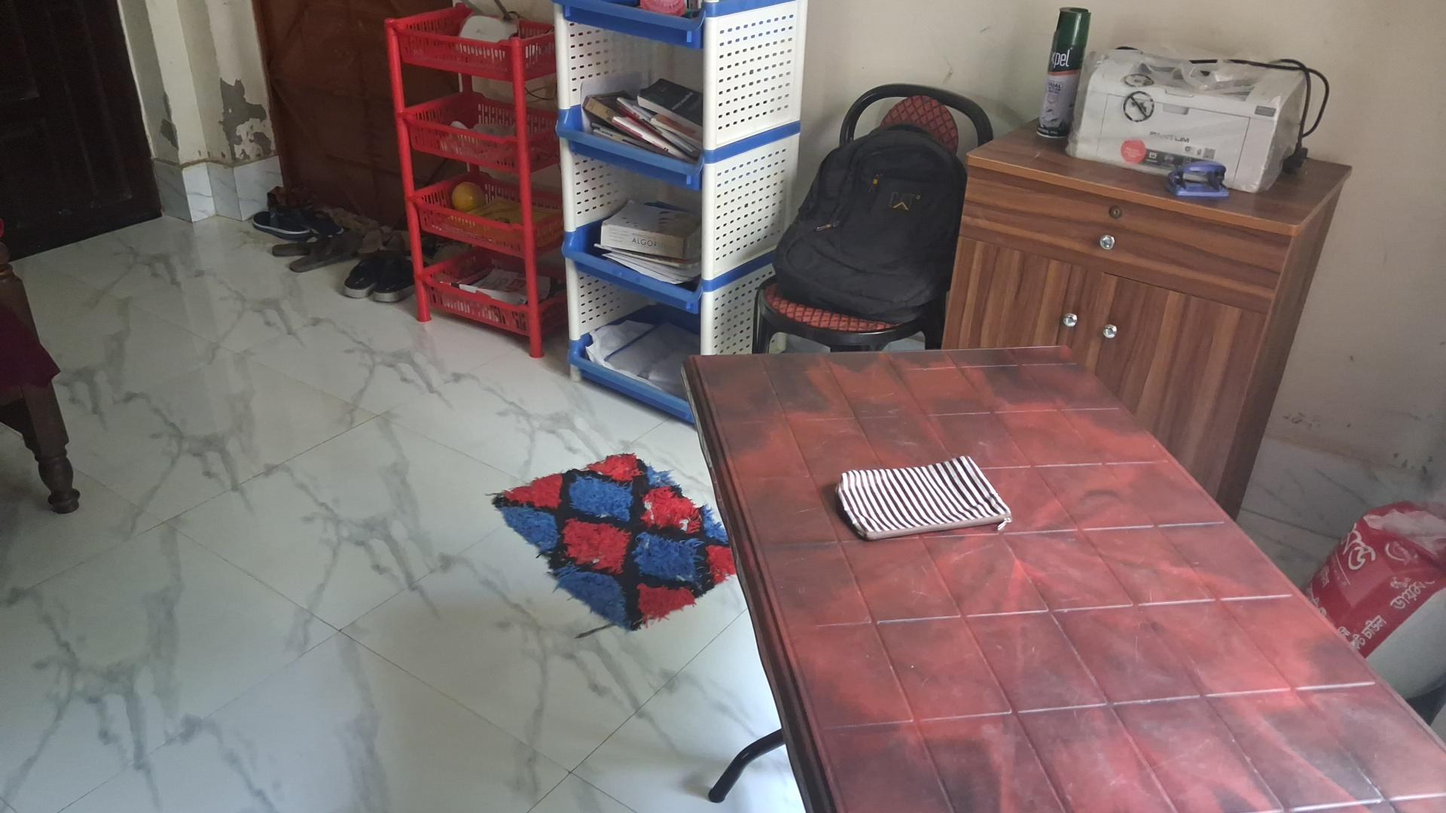Bag: (784, 130, 976, 313)
Book: (600, 204, 699, 259)
Bottle: (1030, 2, 1097, 150)
Chair: (751, 82, 994, 356)
Floor Mat: (489, 448, 743, 635)
Footwear: (346, 246, 417, 303), (273, 233, 373, 272), (251, 207, 343, 240)
Moneybag: (834, 458, 1016, 544)
Rack: (556, 0, 809, 430), (381, 19, 571, 352)
Table: (686, 340, 1446, 813)
